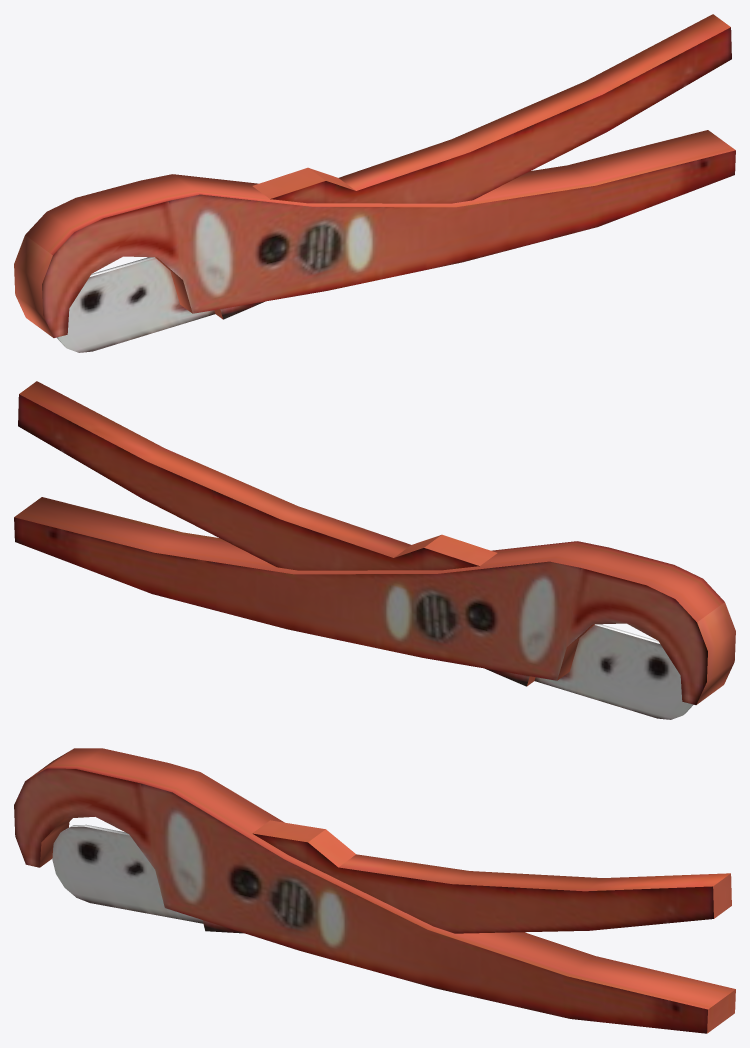
File: cutters.fbx
The picture shows the model from 3 angles, top to bottom: view 1: azimuth 30°, elevation 25°; view 2: azimuth 150°, elevation 25°; view 3: azimuth 330°, elevation 25°; orthographic projection.
Parts seen in each view (by area): view 1: Cube, Cube.001; view 2: Cube, Cube.001; view 3: Cube, Cube.001.
Part boxes in pixels (left/top/right/bottom): Cube: left=14, top=130, right=735, bottom=337; Cube.001: left=56, top=14, right=731, bottom=352; Cube: left=14, top=497, right=735, bottom=704; Cube.001: left=18, top=381, right=693, bottom=719; Cube: left=14, top=748, right=735, bottom=1033; Cube.001: left=52, top=820, right=731, bottom=933.
Size of the model in its own units: 196 by 47.5 by 13.65.
